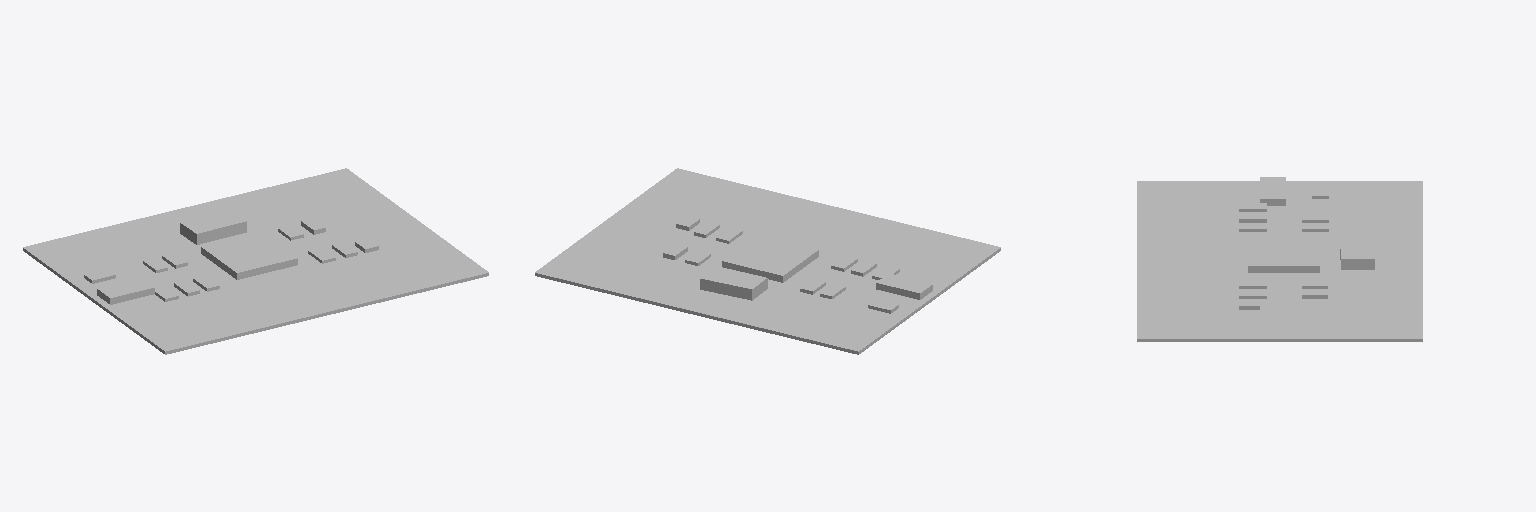
File: pcb.obj
The picture shows the model from 3 angles: view 1: azimuth 30°, elevation 25°; view 2: azimuth 150°, elevation 25°; view 3: azimuth 270°, elevation 25°; orthographic projection.
Parts seen in each view (by area): view 1: MPU6050_png; view 2: MPU6050_png; view 3: MPU6050_png.
Part boxes in pixels (left/top/right/bottom): MPU6050_png: left=23, top=168, right=488, bottom=354; MPU6050_png: left=535, top=168, right=1000, bottom=354; MPU6050_png: left=1137, top=177, right=1422, bottom=341.
Size of the model in its own units: 1.31 by 0.056 by 1.